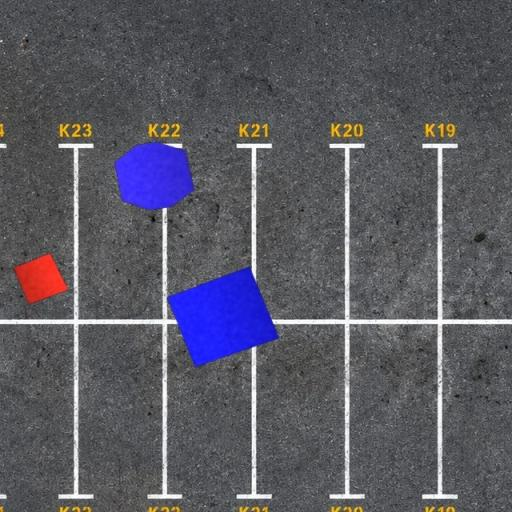BLUE_SQUARE: (166, 266, 280, 368)
RED_SQUARE: (13, 252, 69, 305)
